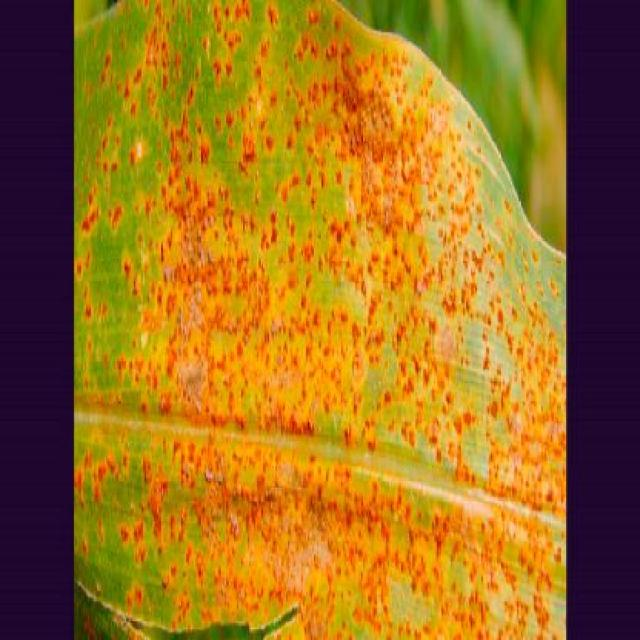Corn_Rust: (72, 0, 566, 640)
